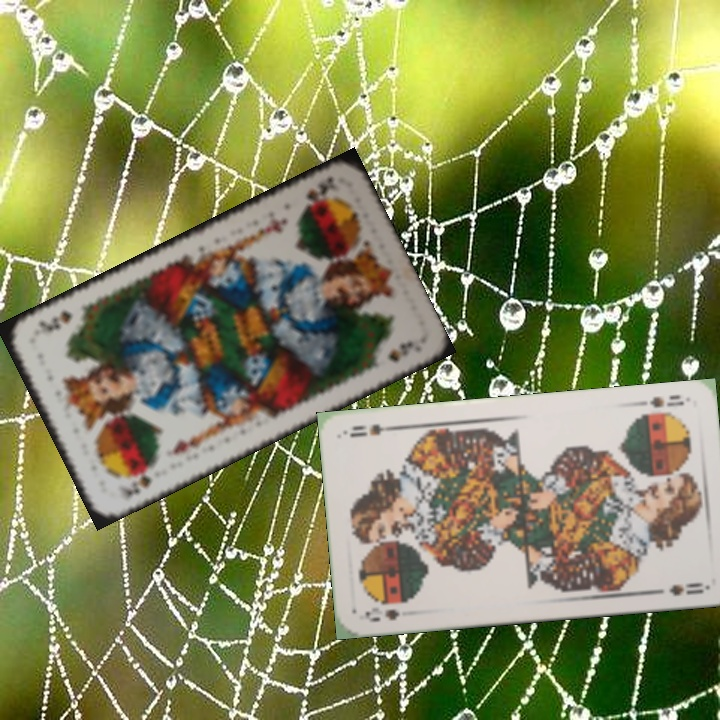SK: (298, 172, 340, 211), (116, 462, 159, 500)
SO: (632, 391, 687, 410), (361, 605, 402, 624)
